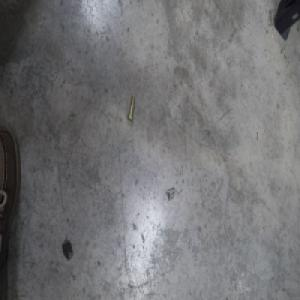Bolt: (126, 95, 135, 123)
